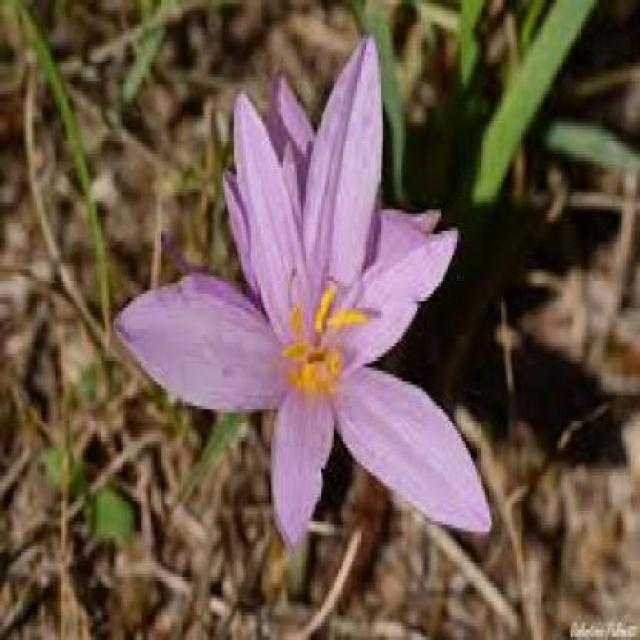Flower: (112, 32, 498, 562)
